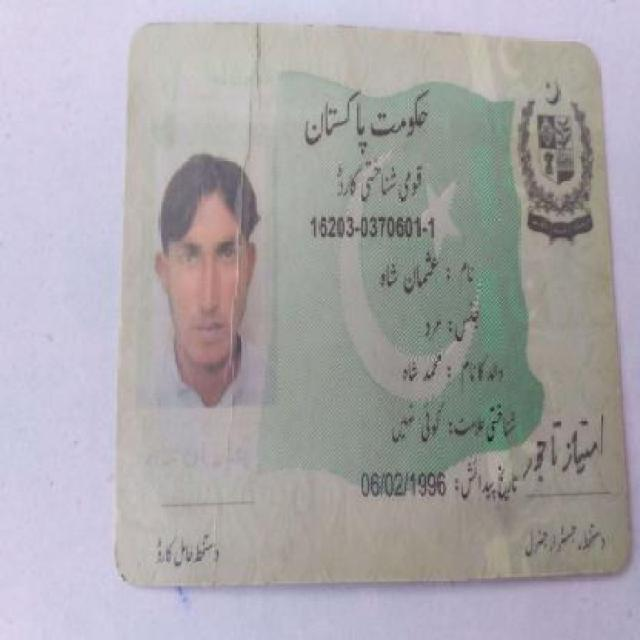Front: (117, 14, 629, 581)
